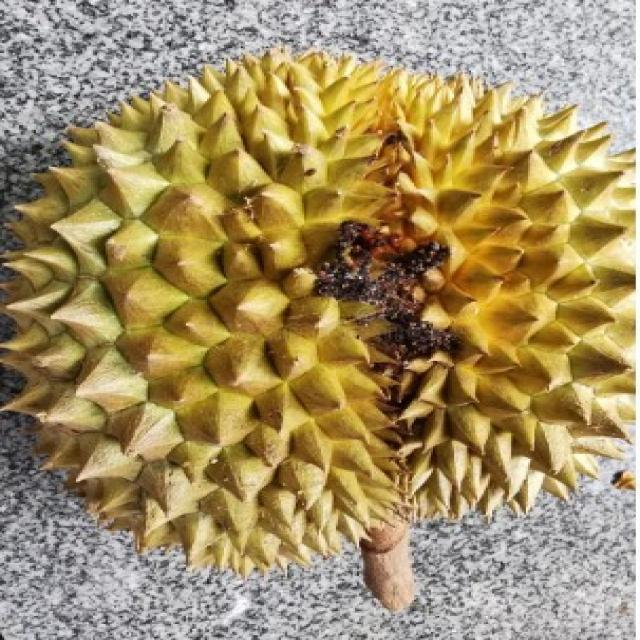defective: (4, 48, 635, 541)
